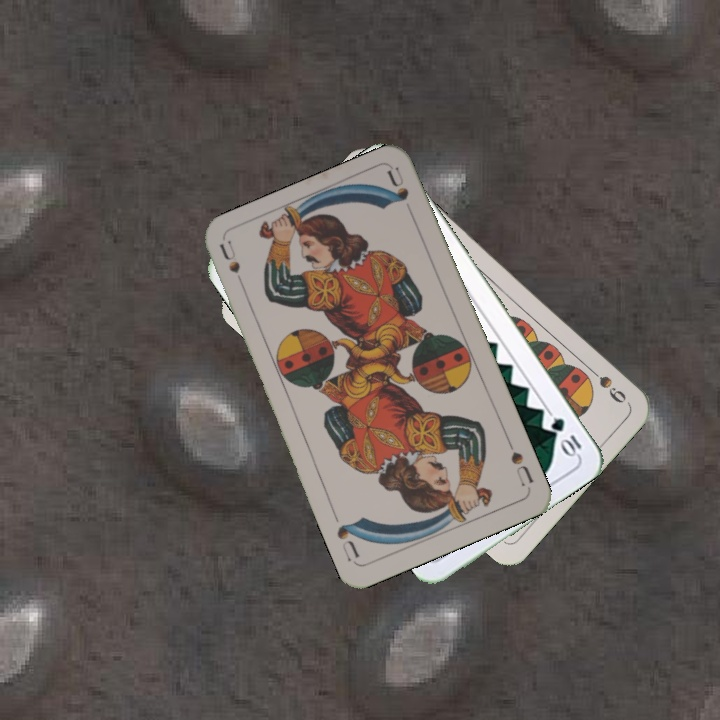G10: (546, 413, 584, 459)
S9: (582, 361, 629, 406)
SU: (216, 237, 250, 296), (502, 435, 536, 491)
